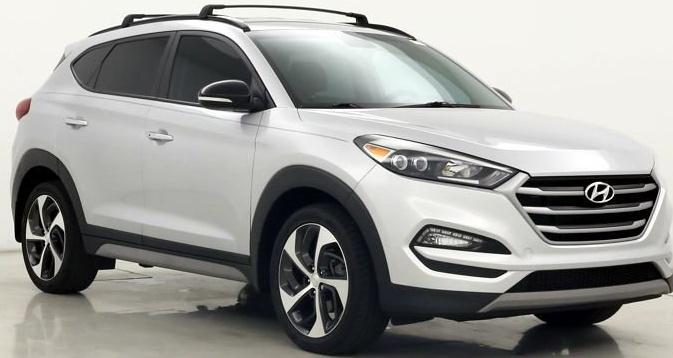SUV: (13, 6, 673, 355)
